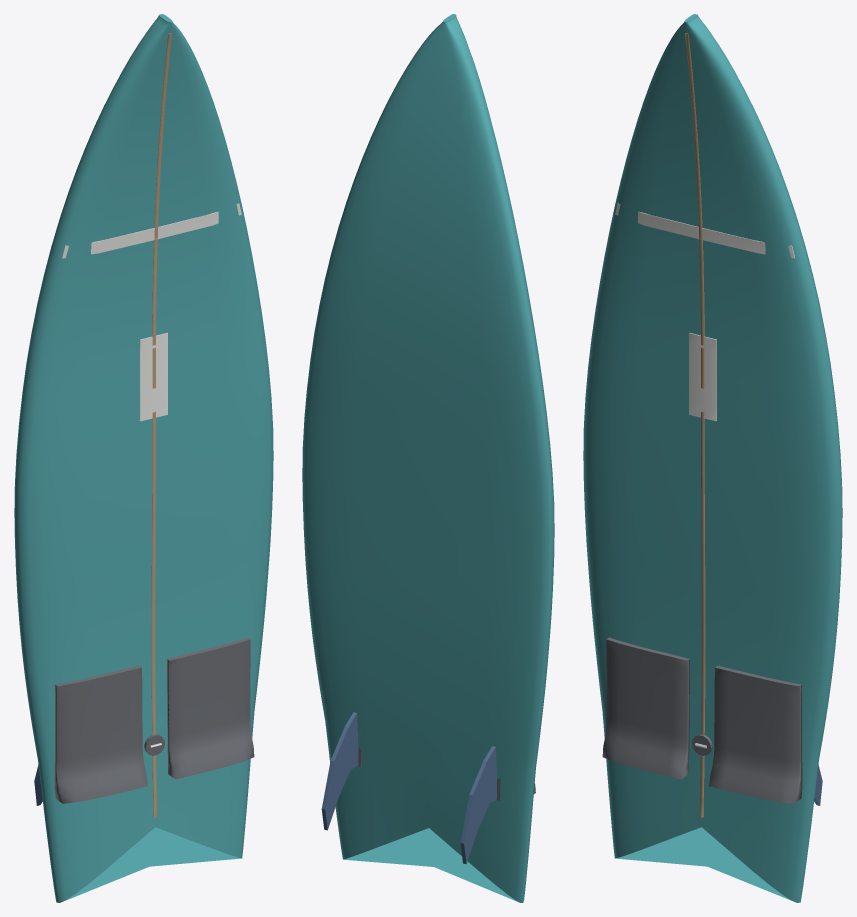
File: beach-surf-and-paddle-kit-fish-surfboard-a30d6ea5__39419.glb
The picture shows the model from 3 angles, left to right: view 1: azimuth 30°, elevation 25°; view 2: azimuth 150°, elevation 25°; view 3: azimuth 330°, elevation 25°; orthographic projection. The views are drawn at different scales.
Parts seen in each view (by area): view 1: fish-surfboard-teal, fish-surfboard-charcoal, fish-surfboard-foam, fish-surfboard-timber; view 2: fish-surfboard-teal, fish-surfboard-navy; view 3: fish-surfboard-teal, fish-surfboard-charcoal, fish-surfboard-foam, fish-surfboard-timber.
Part boxes in pixels (x1,y1,x2,y2): fish-surfboard-teal: (14,14,273,902); fish-surfboard-charcoal: (54,637,254,803); fish-surfboard-foam: (62,203,241,421); fish-surfboard-timber: (151,33,171,817); fish-surfboard-teal: (302,14,554,902); fish-surfboard-navy: (321,712,496,864); fish-surfboard-teal: (583,14,842,902); fish-surfboard-charcoal: (602,637,802,803); fish-surfboard-foam: (615,203,794,421); fish-surfboard-timber: (685,33,705,817).
Size of the model in its own units: 0.5599 by 1.82 by 0.2409.
